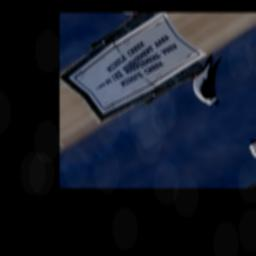Swallow: (176, 52, 250, 112)
